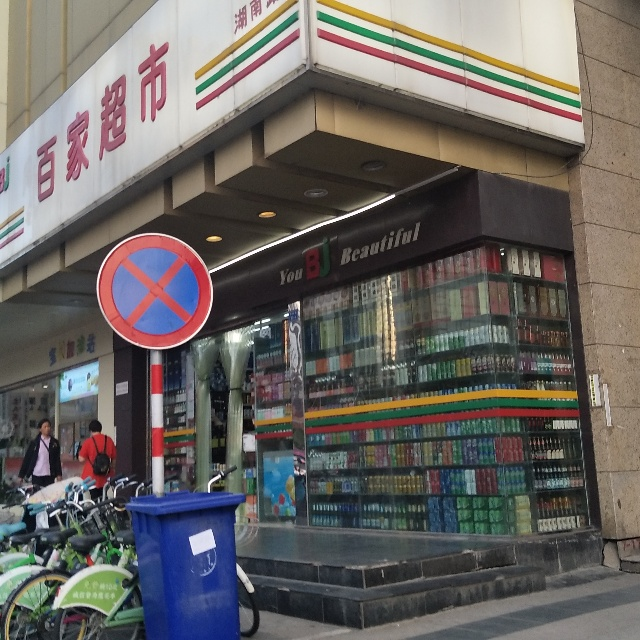stop: (96, 233, 213, 350)
